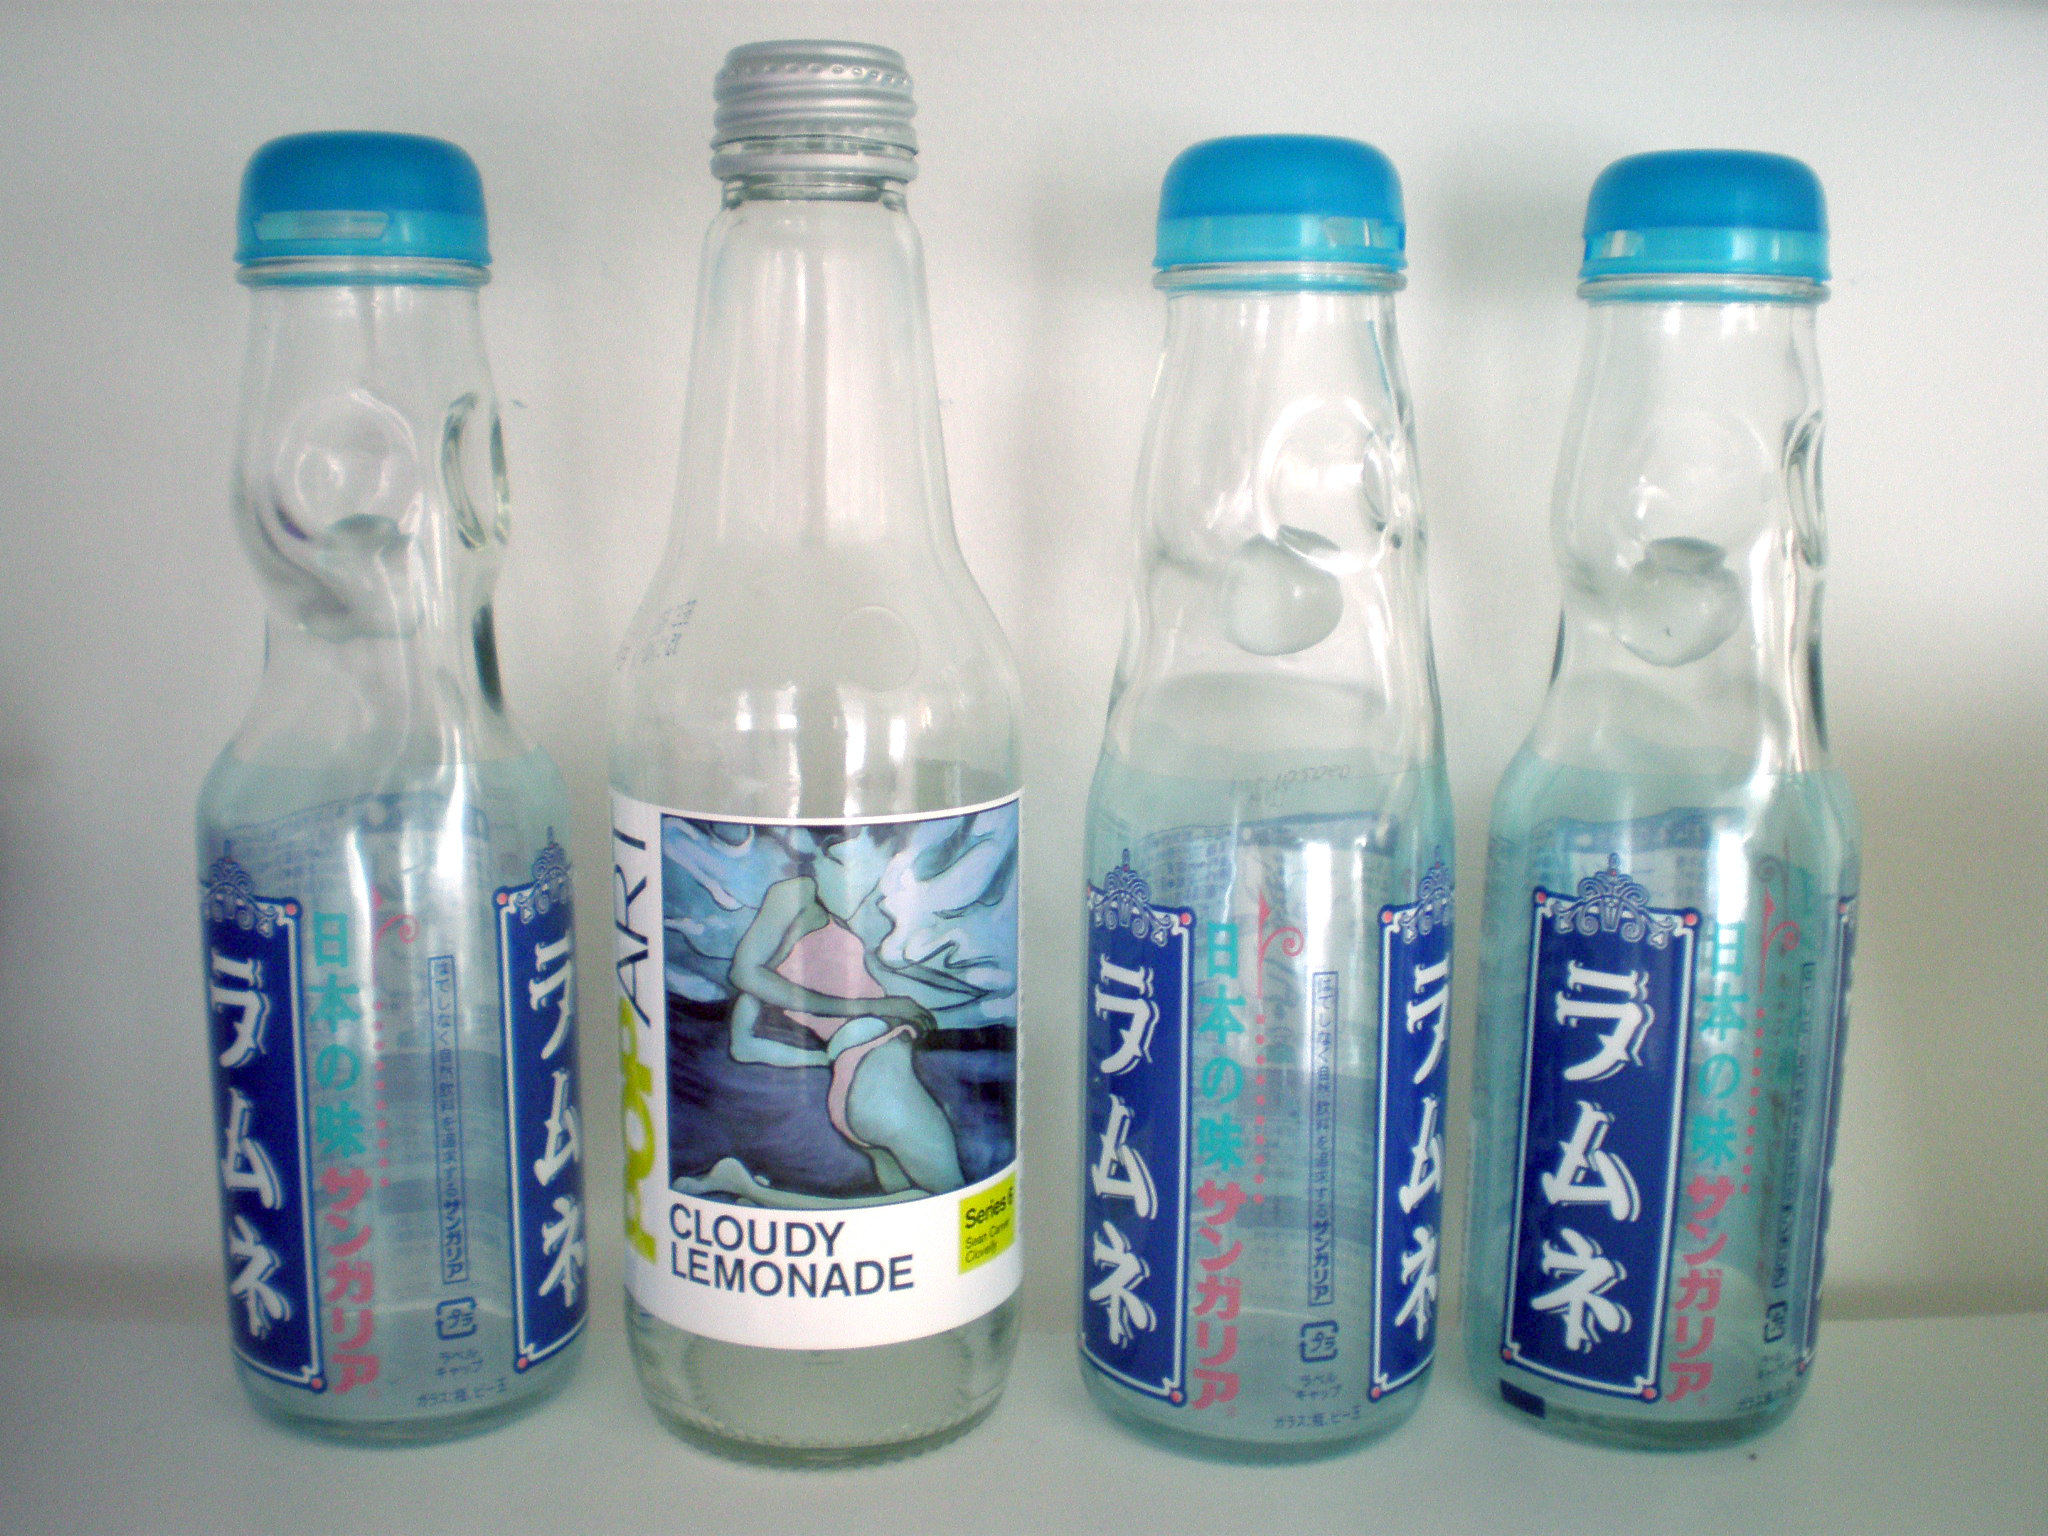bottle: (614, 44, 1026, 1475), (185, 123, 606, 1467), (1076, 140, 1451, 1462), (1493, 139, 1854, 1450)
